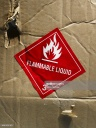FlammableLiquid: (20, 32, 84, 94)
